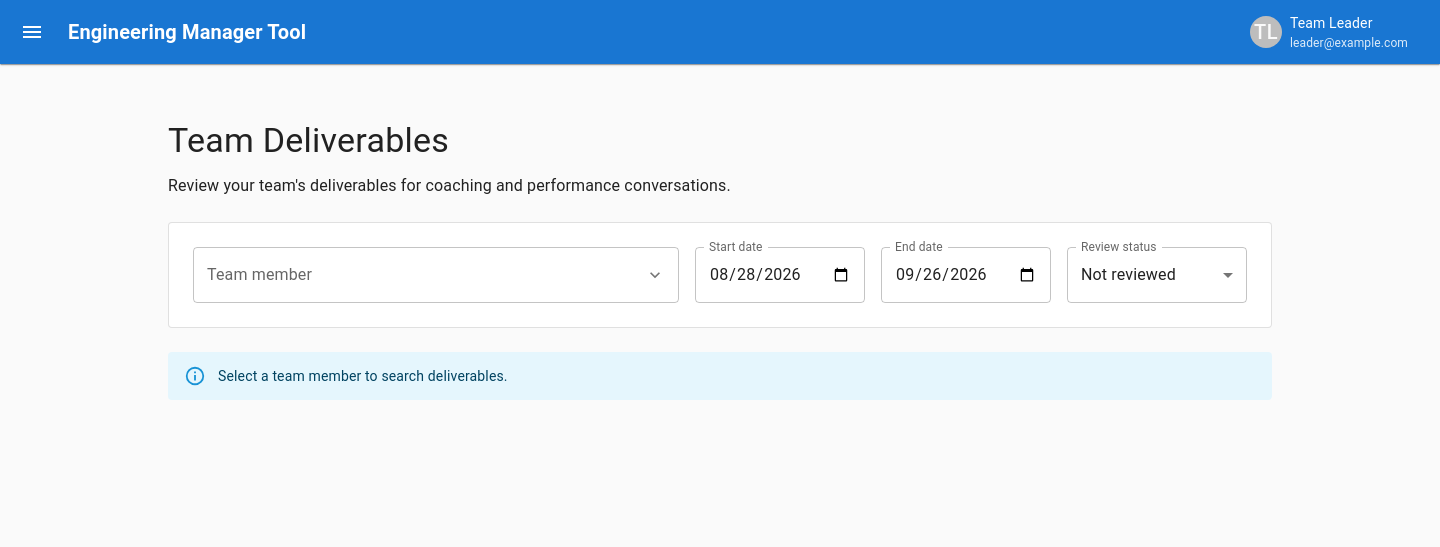
US1 leader team deliverables page › opens a compact hierarchy popover and selects a nested collaborator
The image size is (1440, 547).
Click the field with test id "team-member-select" at (415, 275), box [193,247,637,303]
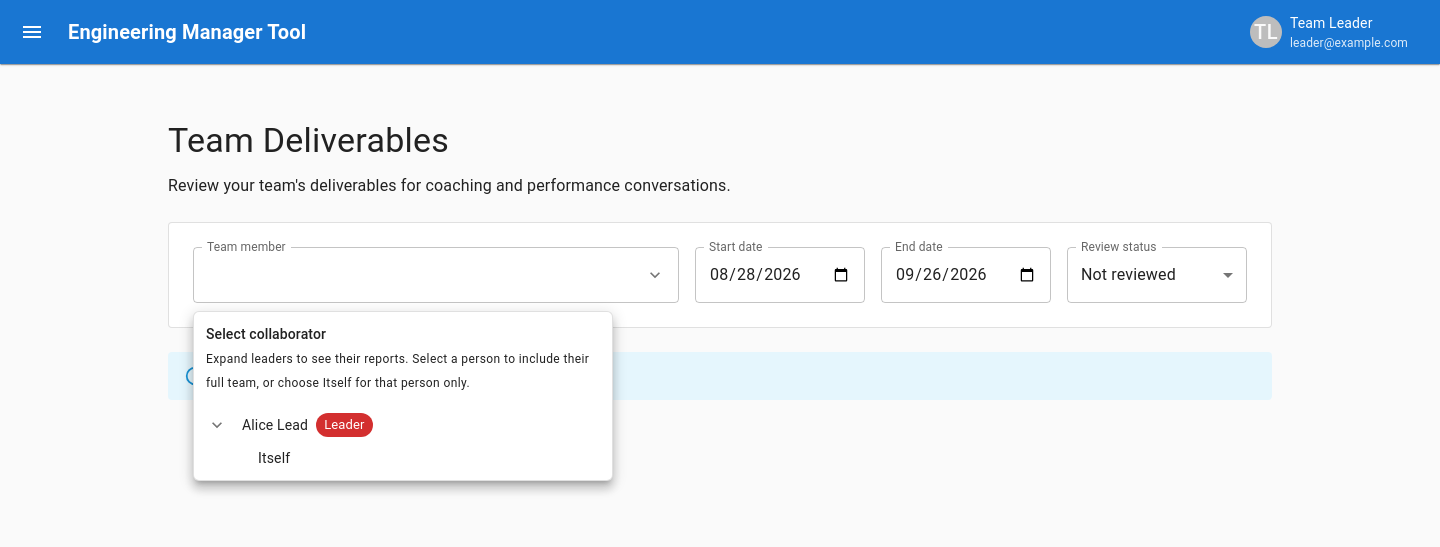
Expected: the button with aria-label "Select Alice Lead and their team" is shown, [202,410,373,440]
Click the button named "Expand Alice Lead" at (216, 425), box [202,410,232,440]
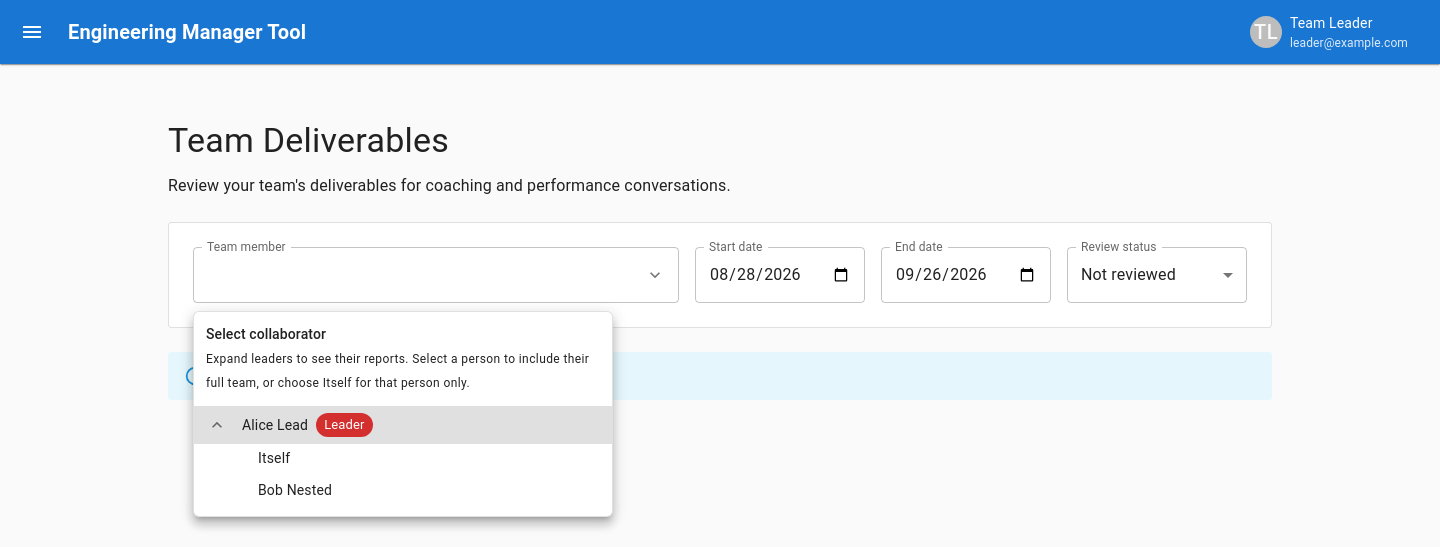
Click the button with aria-label "Select Bob Nested itself only" at (295, 490), box [258,482,332,498]
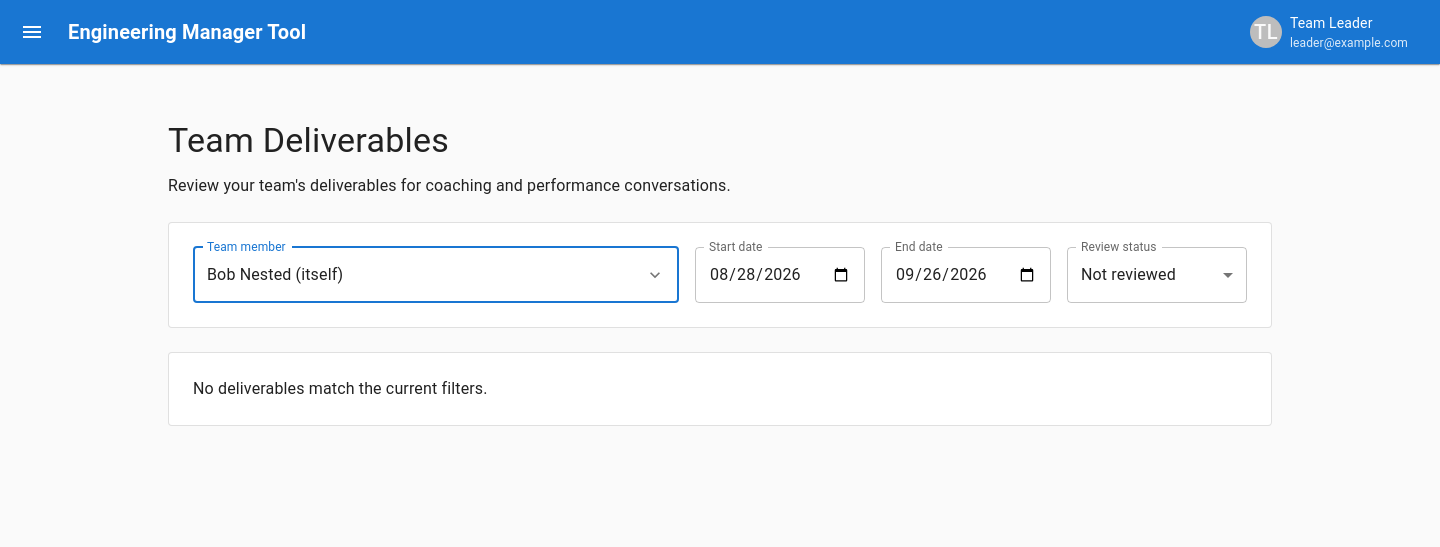
Expected: the field with test id "team-member-select" holds "Bob Nested (itself)", [193,247,637,303]
